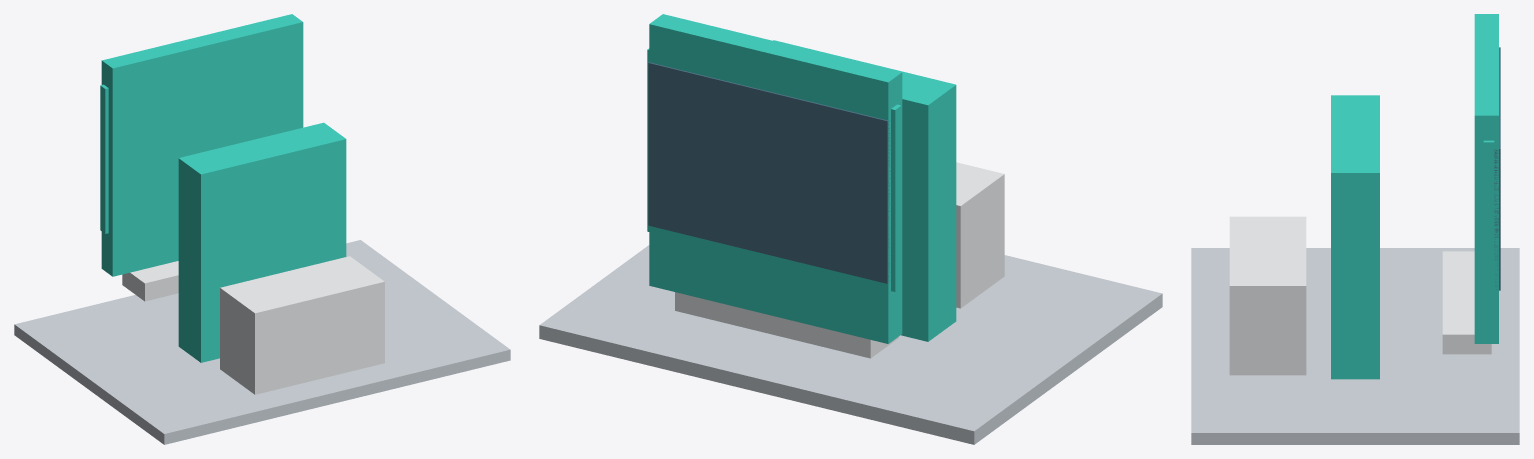
The picture shows the model from 3 angles, left to right: view 1: azimuth 30°, elevation 25°; view 2: azimuth 150°, elevation 25°; view 3: azimuth 270°, elevation 25°; orthographic projection. The views are drawn at different scales.
Visible parts, largest first — view 1: Exhibition Booth Concept; view 2: Exhibition Booth Concept; view 3: Exhibition Booth Concept.
Part boxes in pixels (box(x1,y1,x2,y2)): Exhibition Booth Concept: box(14, 14, 510, 444); Exhibition Booth Concept: box(539, 14, 1162, 444); Exhibition Booth Concept: box(1191, 14, 1519, 444).
Size of the model in its own units: 4 by 2.9 by 3.
